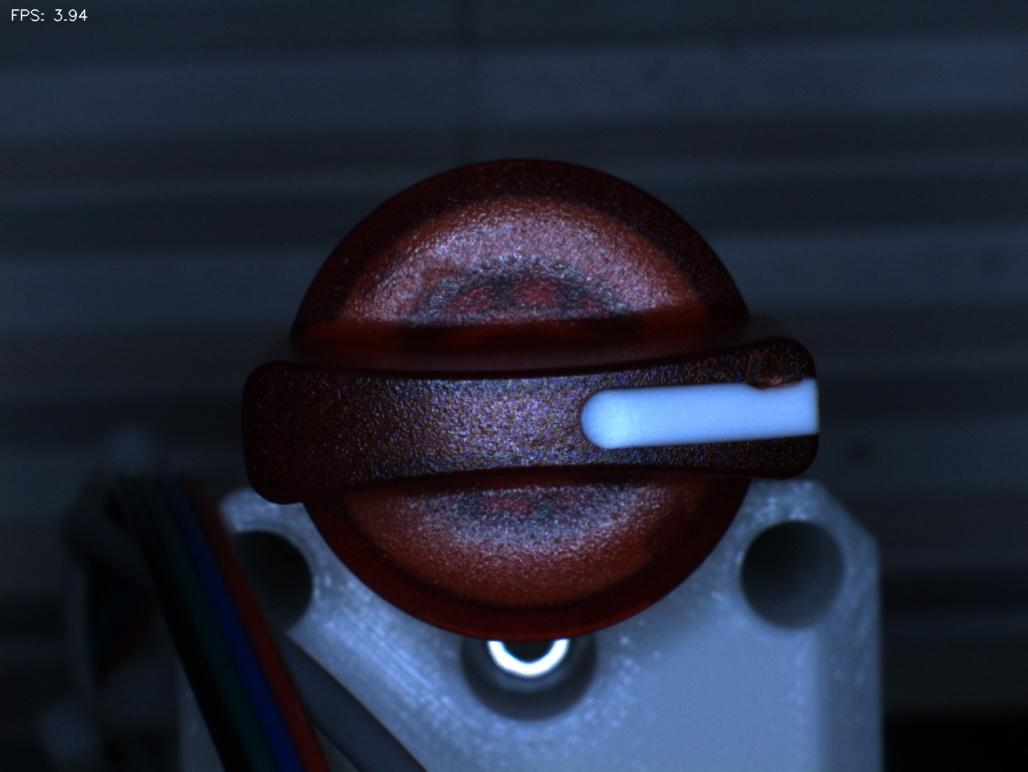Choc: (731, 342, 809, 410)
